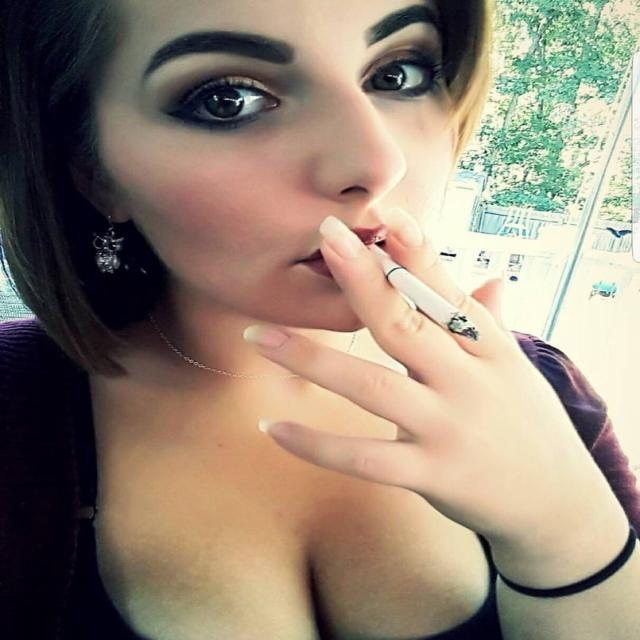cigarette: (362, 239, 485, 347)
